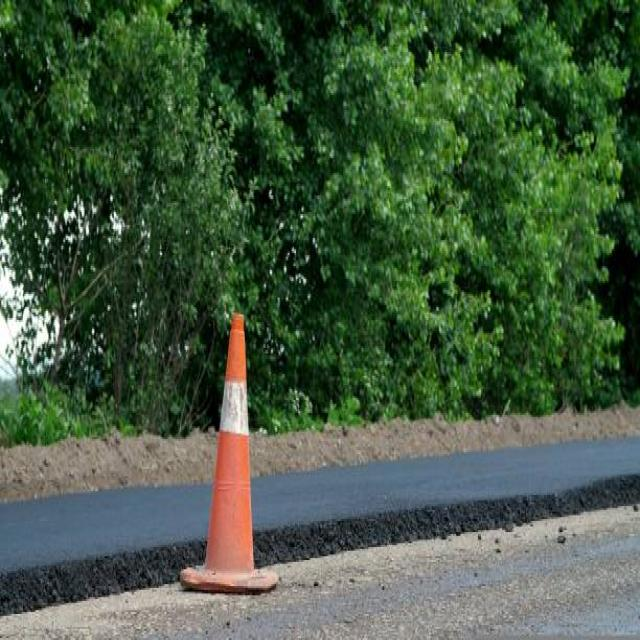Traffic Cone: (180, 286, 287, 603)
